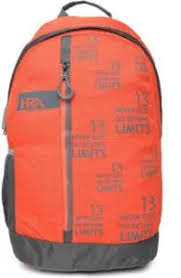backpack: (0, 0, 162, 273)
